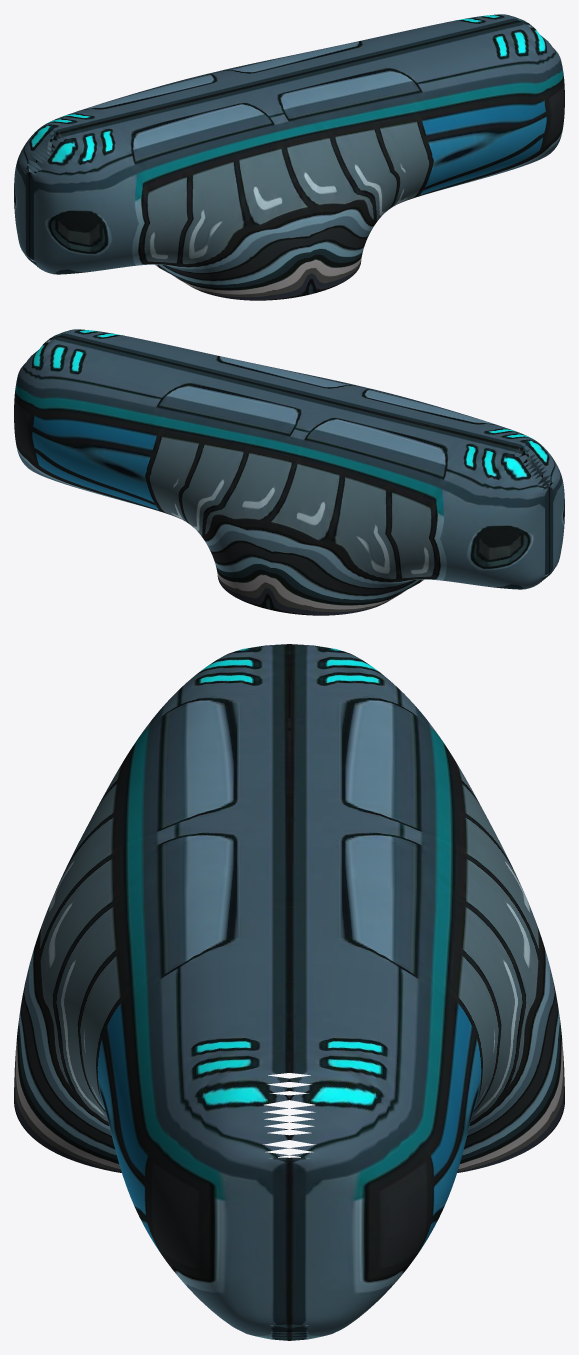
File: chassis_panel.glb
3 renders of one model, top to bottom at view 1: azimuth 30°, elevation 25°; view 2: azimuth 150°, elevation 25°; view 3: azimuth 270°, elevation 25°, orthographic. The views are drawn at different scales.
Visible parts, largest first — view 1: chassis_panel; view 2: chassis_panel; view 3: chassis_panel.
Boxes of the visible parts, x1,y1,x2,y2 form: chassis_panel: [14, 14, 564, 300]; chassis_panel: [14, 329, 564, 615]; chassis_panel: [14, 644, 564, 1340].
Size of the model in its own units: 0.989 by 0.2762 by 0.4746.
1 material, 1 textured.
